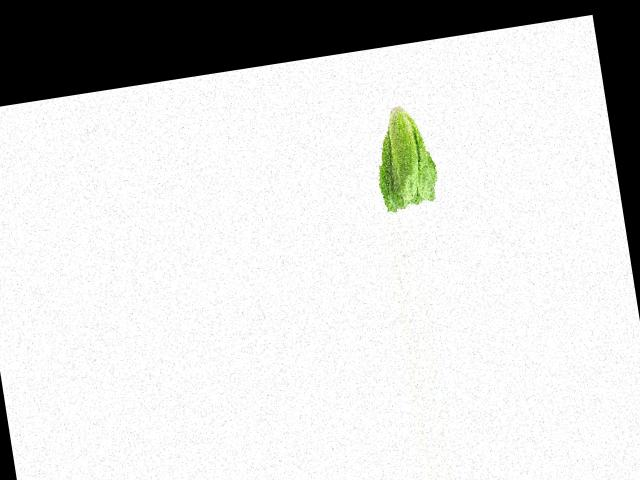lettuce: (365, 102, 449, 214)
